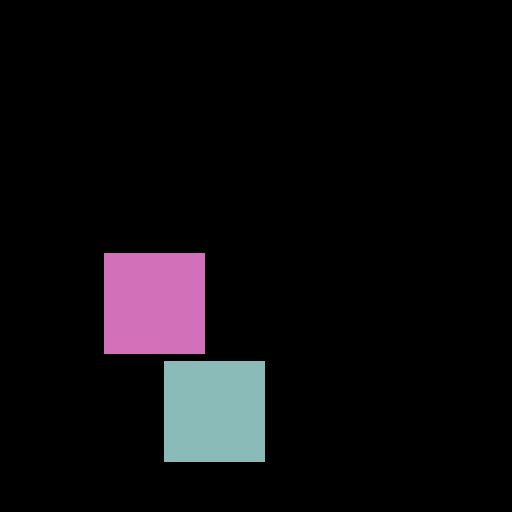square: (164, 361, 264, 461), (104, 253, 204, 353)
